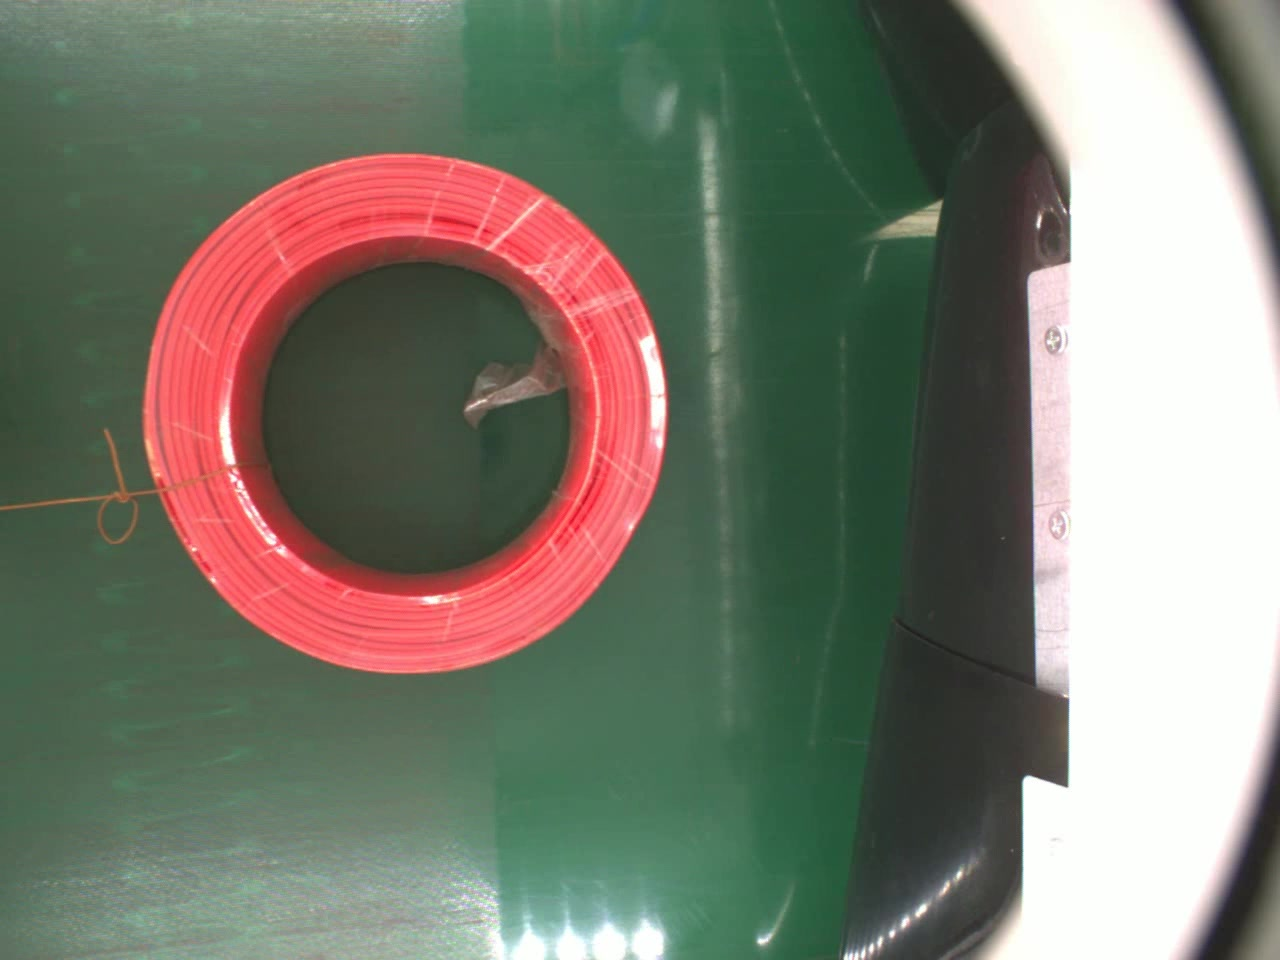red: (138, 153, 670, 680)
